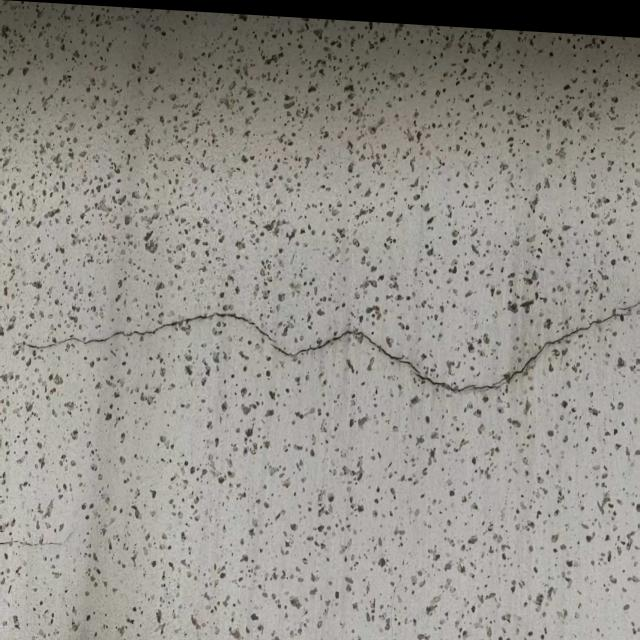crack: (10, 272, 634, 411), (0, 519, 95, 559)
